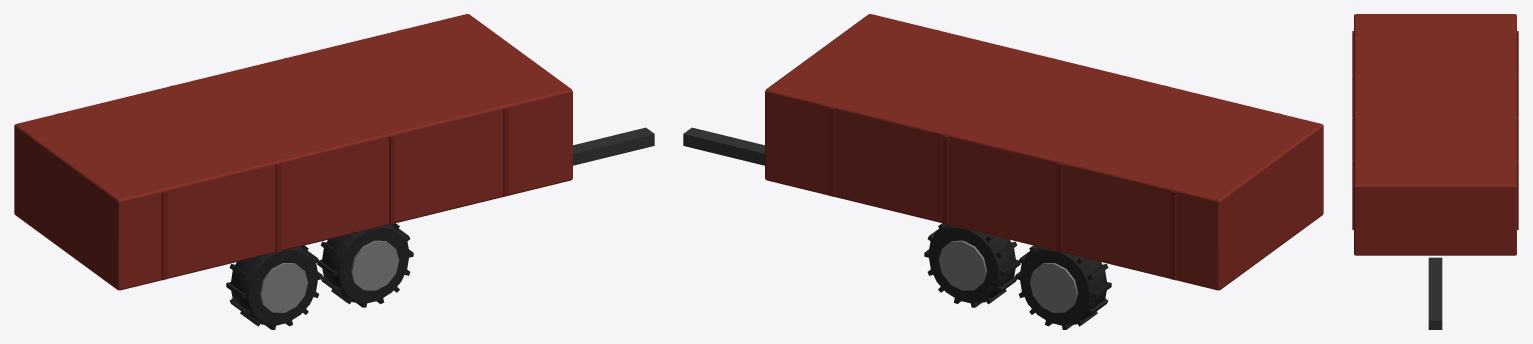
The model's file is SM_Prop_farm_trailer_0.glb.
3 renders of one model, left to right at view 1: azimuth 30°, elevation 25°; view 2: azimuth 150°, elevation 25°; view 3: azimuth 270°, elevation 25°, orthographic. The views are drawn at different scales.
Visible parts, largest first — view 1: SM_Prop_farm_trailer_0; view 2: SM_Prop_farm_trailer_0; view 3: SM_Prop_farm_trailer_0.
Boxes of the visible parts, x1,y1,x2,y2 form: SM_Prop_farm_trailer_0: [14, 14, 654, 329]; SM_Prop_farm_trailer_0: [683, 14, 1323, 329]; SM_Prop_farm_trailer_0: [1352, 14, 1518, 329].
Bounding box in the file's own units: 7.7 × 2.15 × 2.45.
